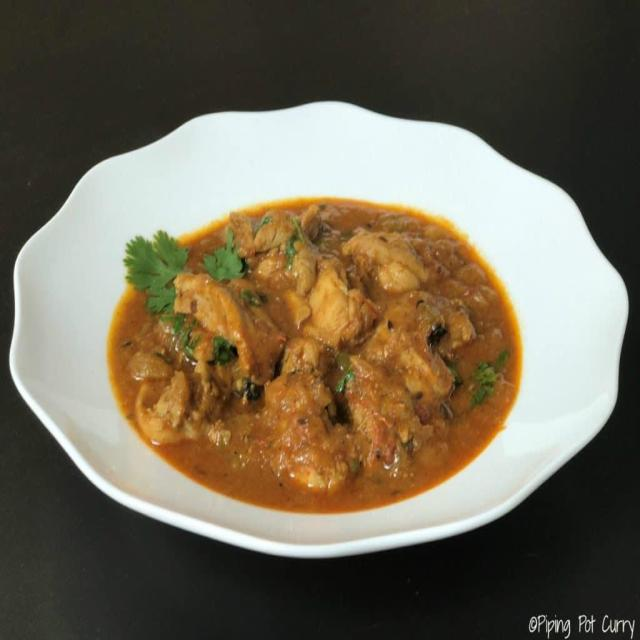chicken: (131, 222, 509, 470)
